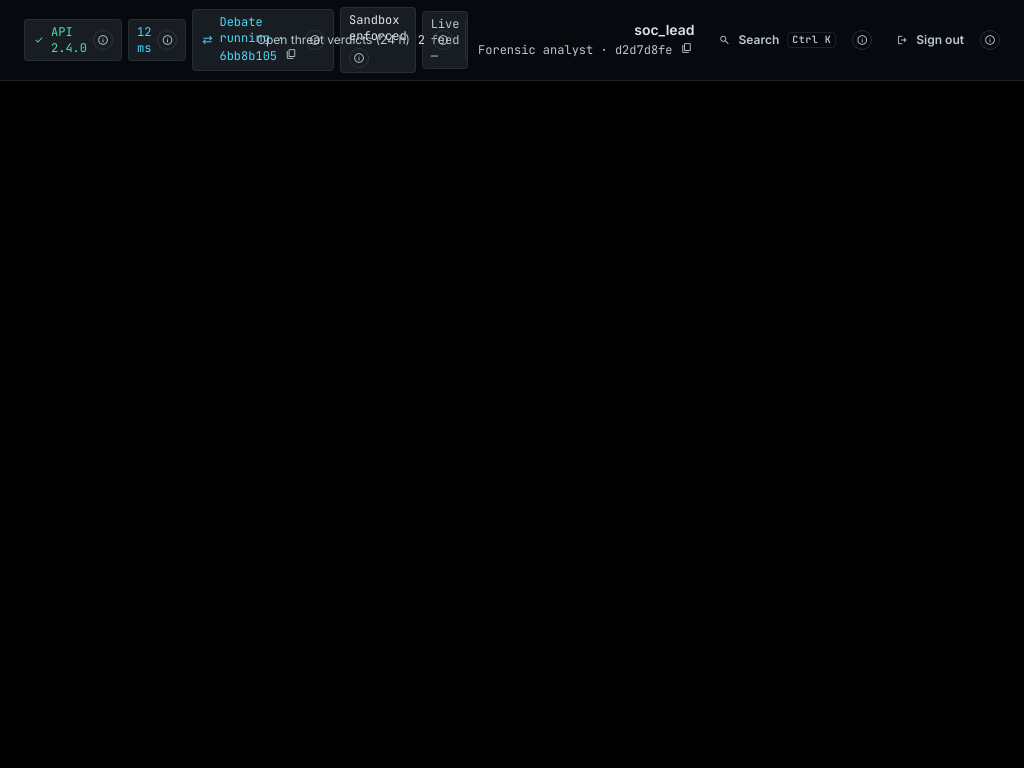
Test case: TopNav search › opens the command palette from the Search button
Check: the dialog "Command palette" is not shown
Click the button with aria-label "Search (": (777, 40) [706, 26, 848, 54]
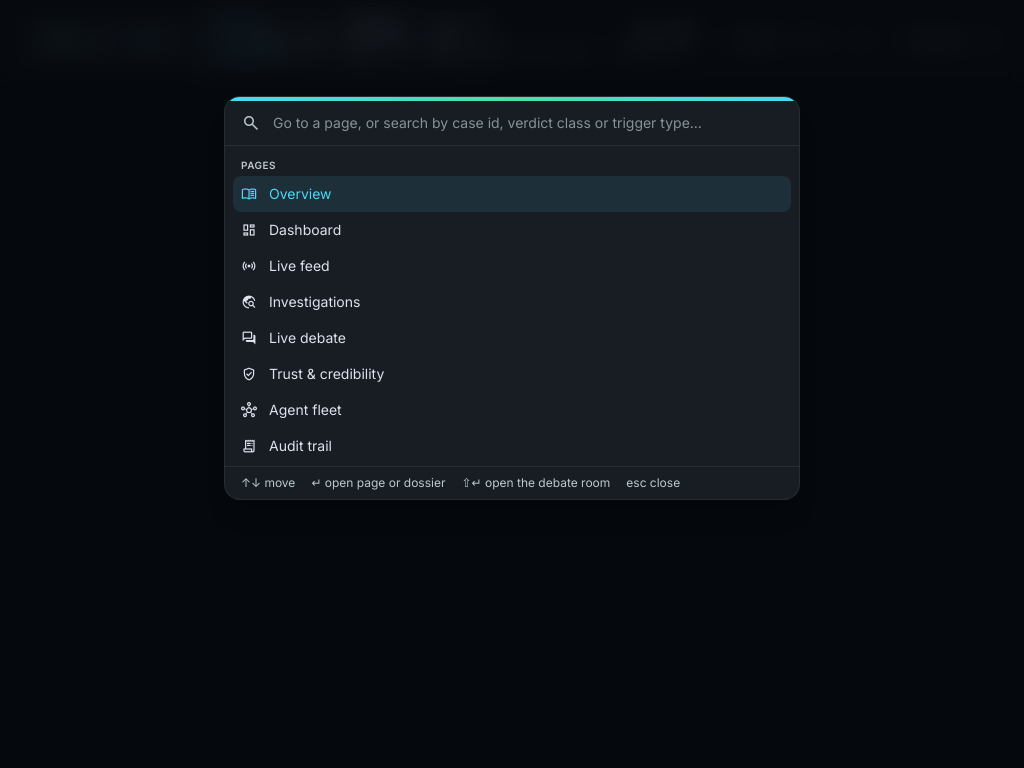
Check: the dialog named "Command palette" is shown, box [224, 96, 800, 500]
